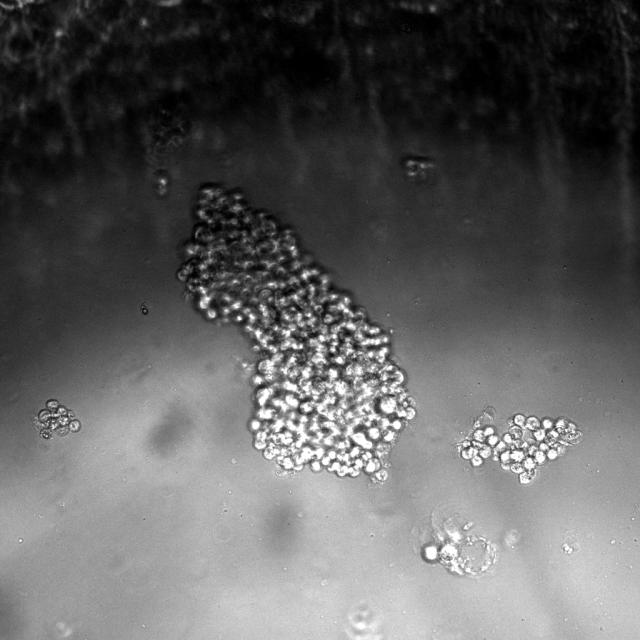organoid: (178, 183, 418, 486), (454, 407, 584, 484), (411, 497, 497, 577), (35, 399, 81, 439), (401, 155, 436, 183), (154, 168, 170, 198), (561, 542, 580, 555)
